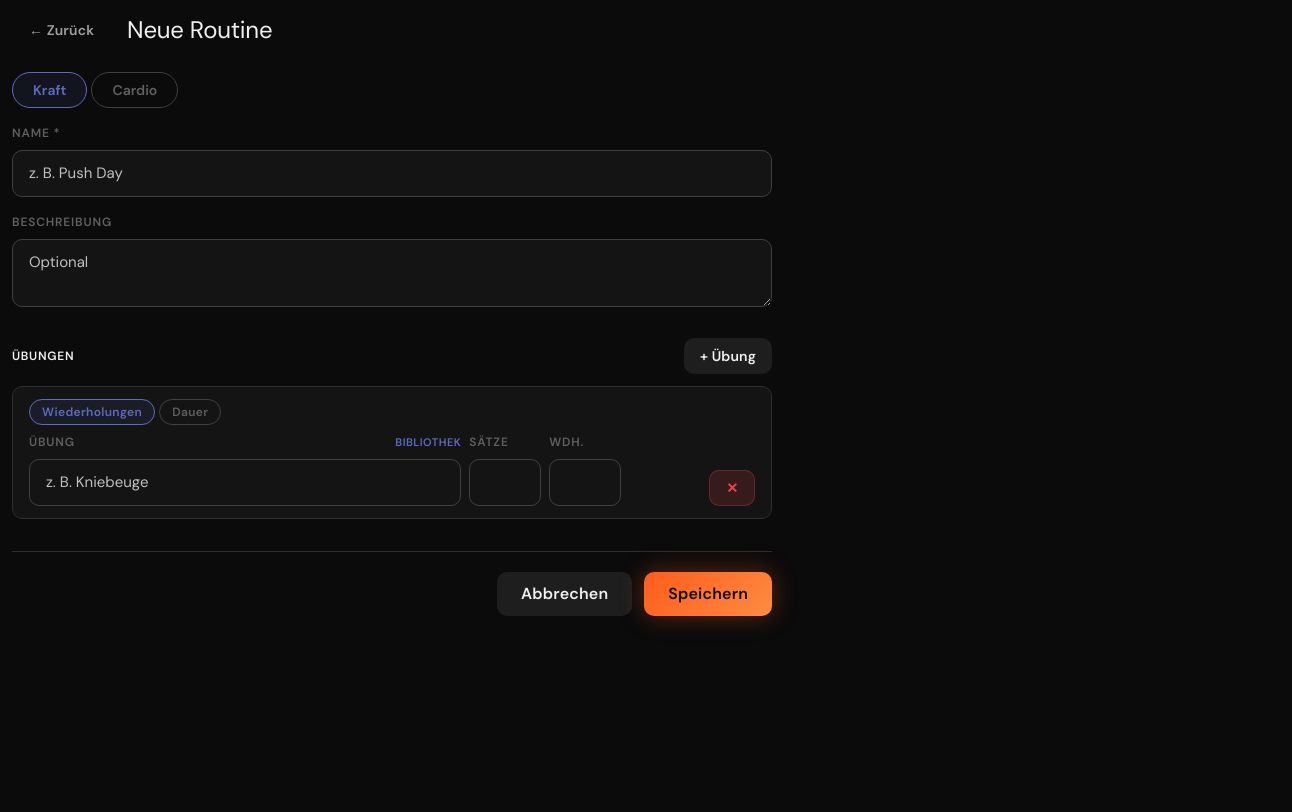
Test: RoutineForm – Übungsbibliothek › schließt Picker beim Klick auf Backdrop
What coordinates should you click on to do the following:
click the button "Bibliothek"
I would click on:
 (428, 442)
Its box is [395,435,461,449].
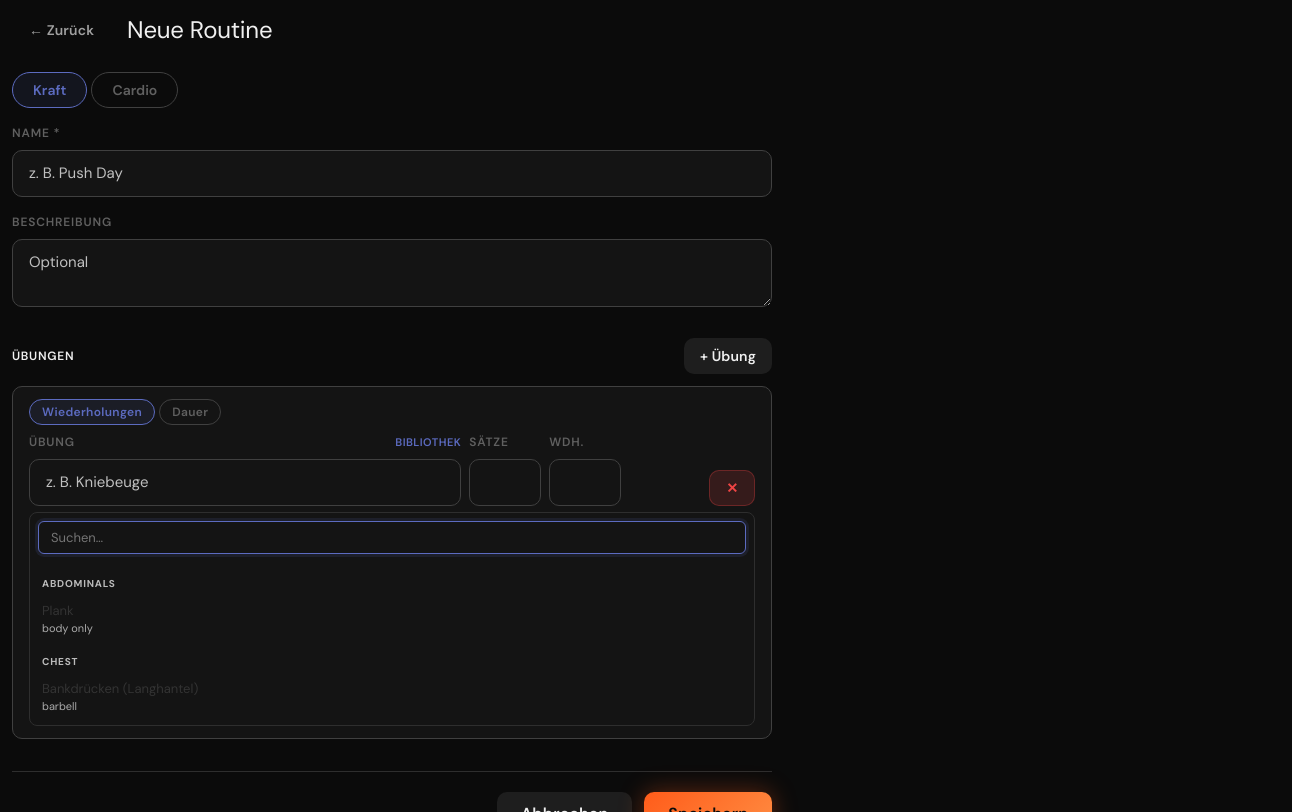
Expected: the field with placeholder "Suchen…" is shown, [38,521,746,554]
What coordinates should you click on to do the following:
click the element with class "exercise-picker__backdrop"
I would click on:
 (652, 412)
Its box is [12,12,1291,811].
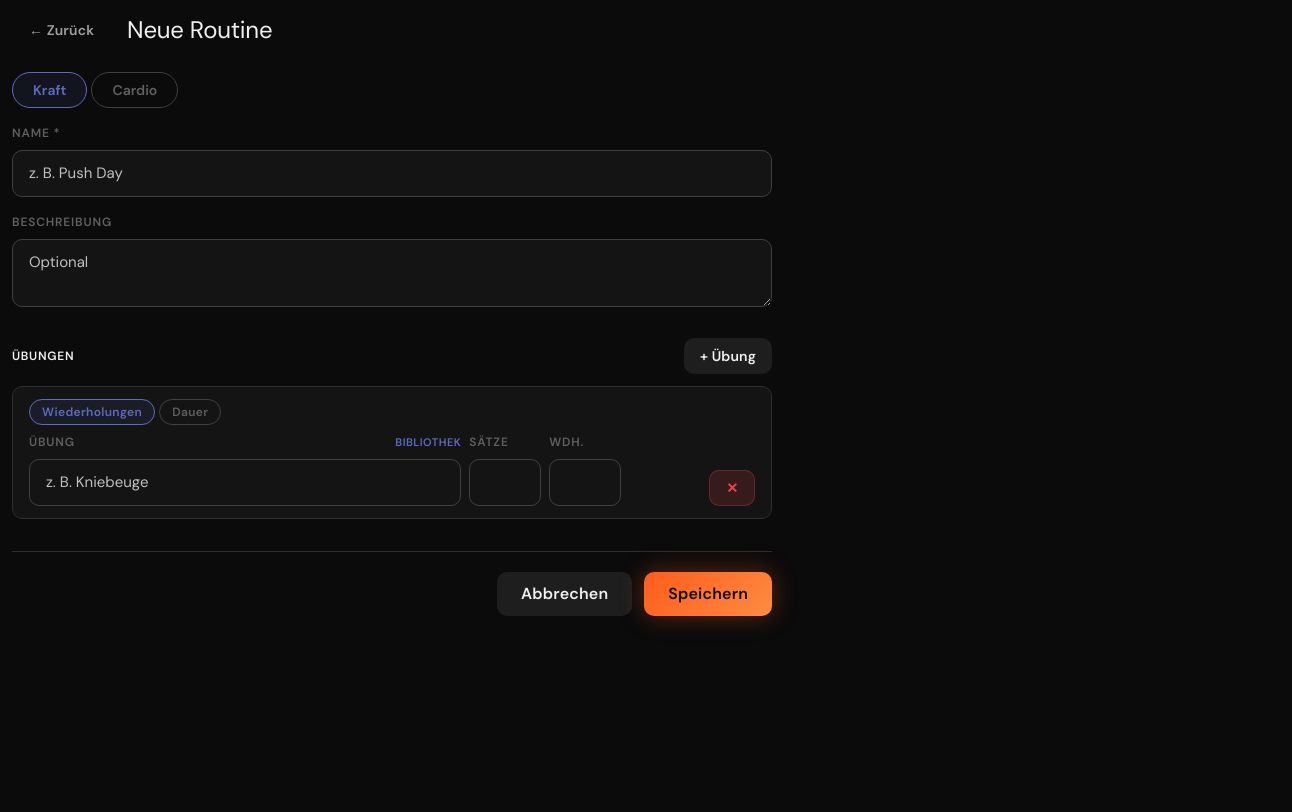
Expected: the field with placeholder "Suchen…" is gone
